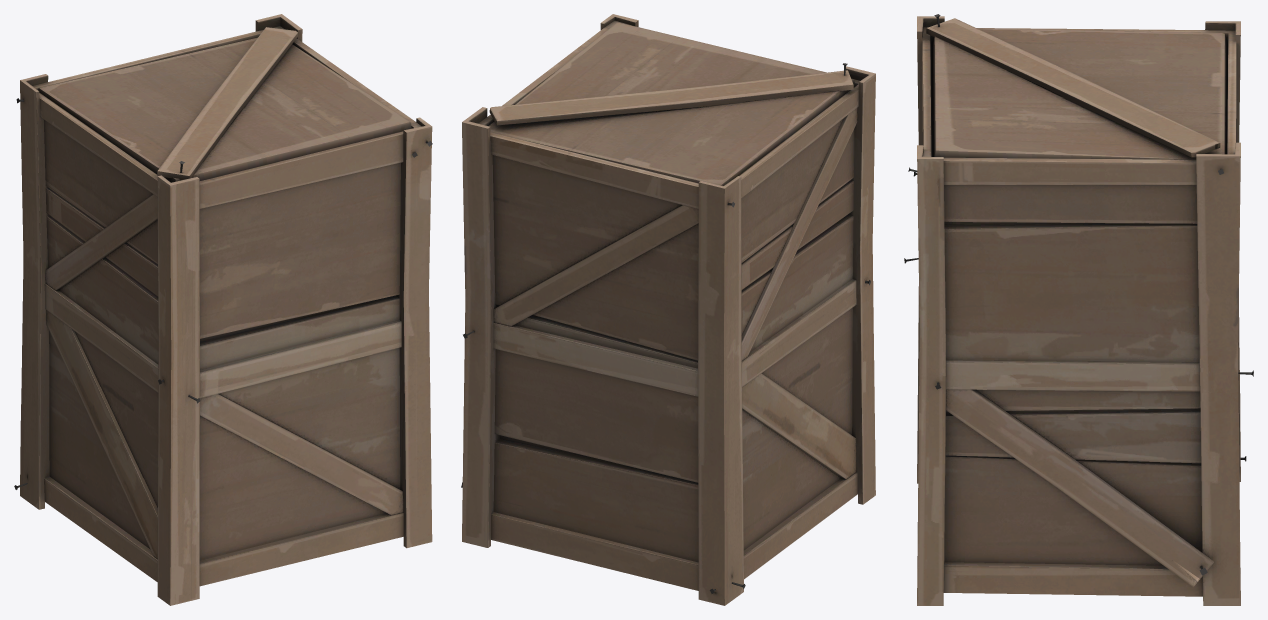
Rendered from barrel_crate.dae.
The picture shows the model from 3 angles, left to right: view 1: azimuth 30°, elevation 25°; view 2: azimuth 150°, elevation 25°; view 3: azimuth 270°, elevation 25°; orthographic projection. The views are drawn at different scales.
Parts seen in each view (by area): view 1: barrel_crate; view 2: barrel_crate; view 3: barrel_crate.
Boxes of the visible parts, x1,y1,x2,y2 form: barrel_crate: [14, 14, 432, 605]; barrel_crate: [461, 14, 875, 605]; barrel_crate: [904, 14, 1253, 605].
Bounding box in the file's own units: 1.57 × 1.52 × 2.22.
1 material, 1 textured.
